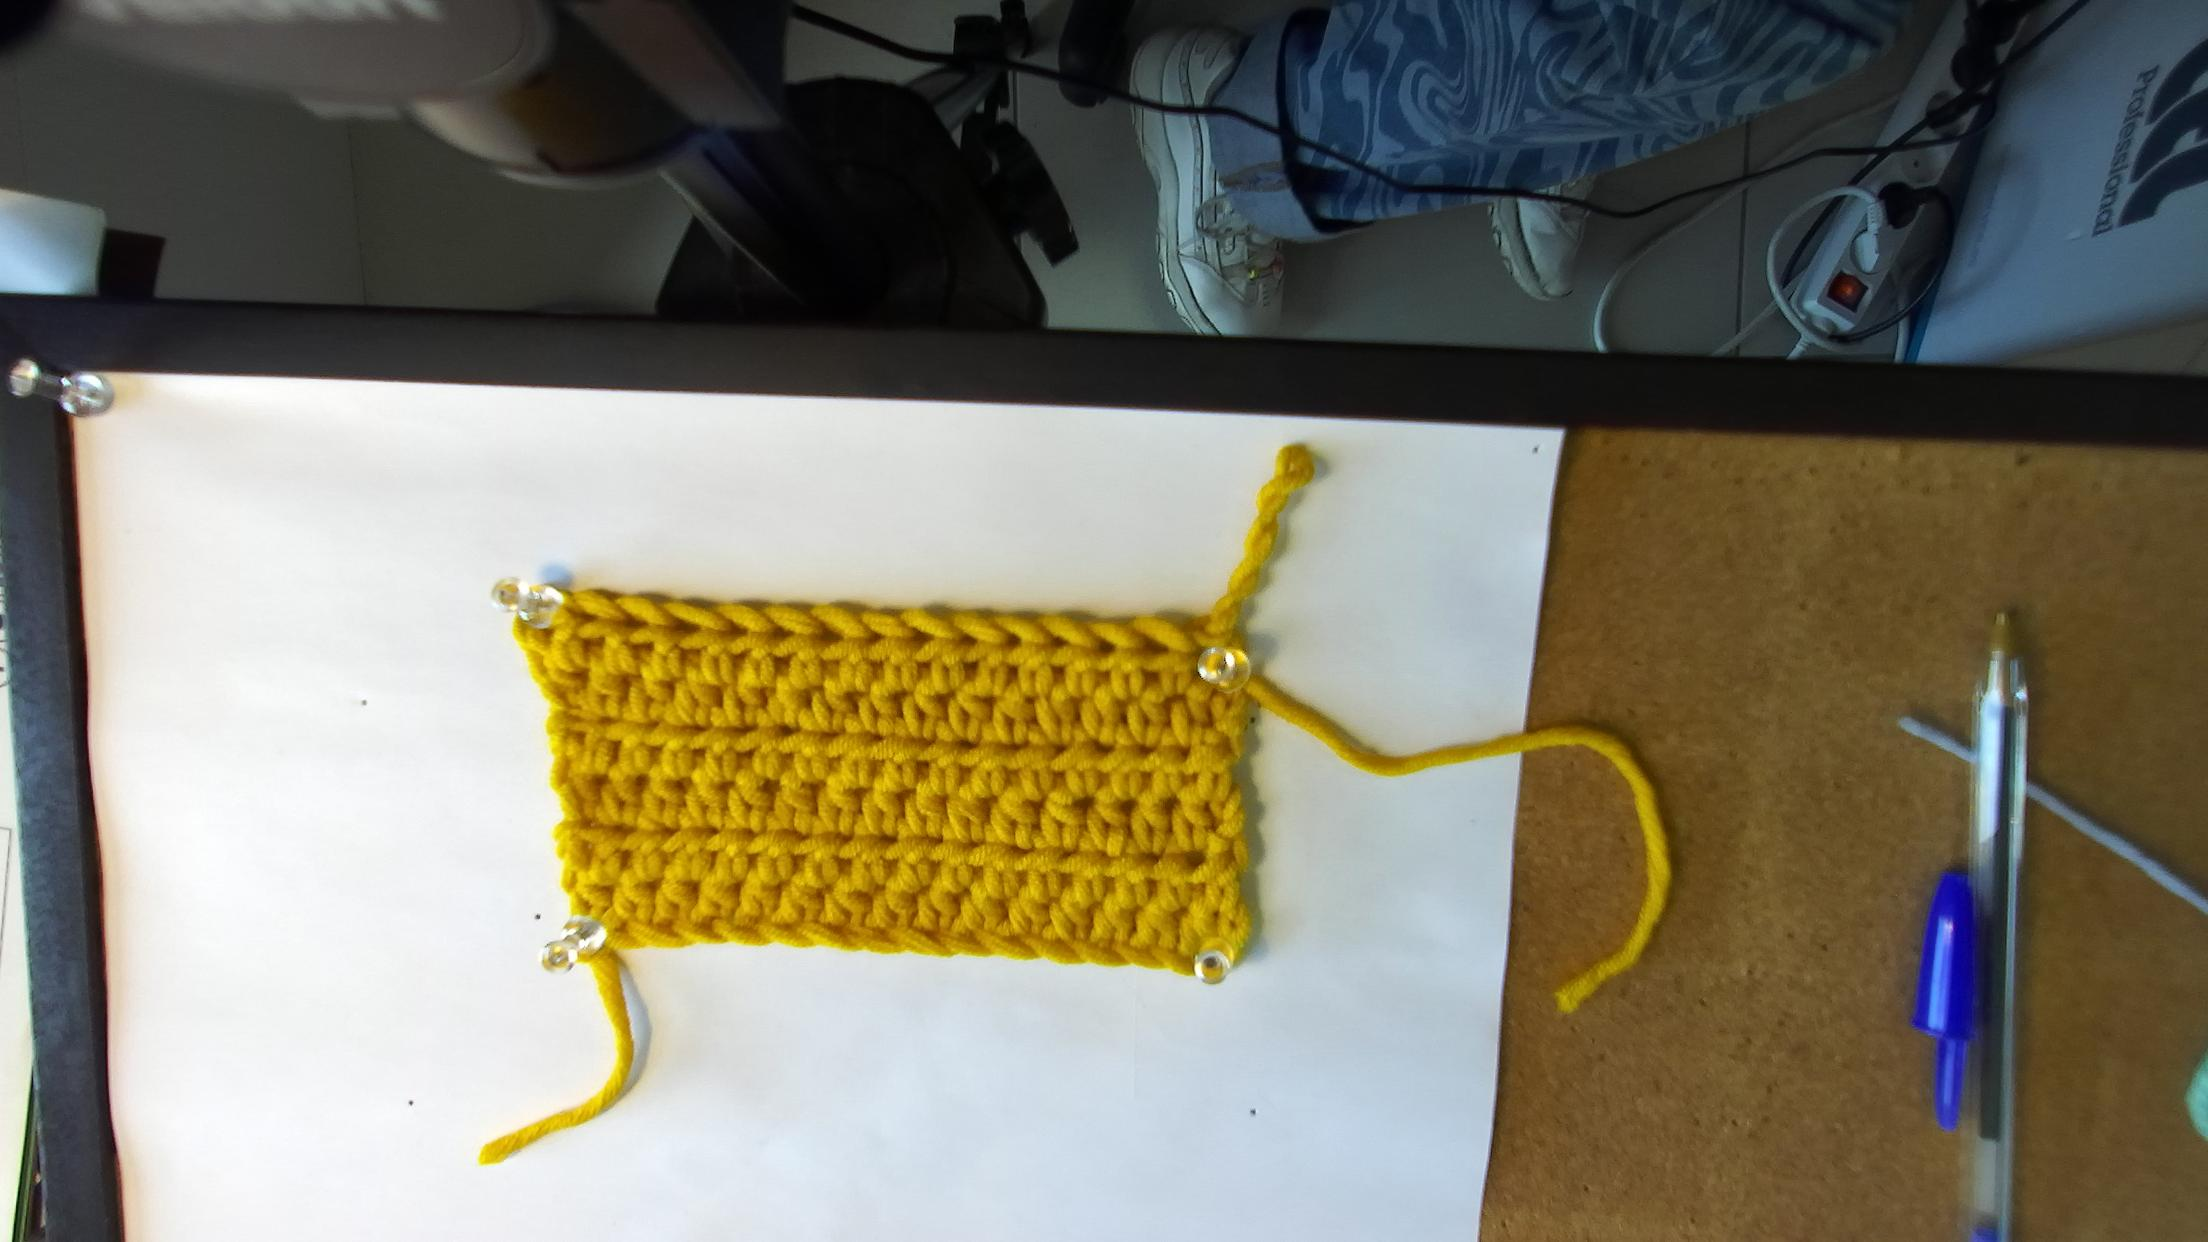hole: (614, 613, 649, 631), (1140, 634, 1168, 655), (670, 617, 701, 635), (816, 626, 845, 645), (910, 628, 936, 646), (573, 610, 602, 625), (722, 622, 748, 638), (1096, 637, 1115, 657), (770, 625, 796, 638), (867, 628, 889, 643), (1004, 632, 1021, 649), (1049, 637, 1072, 648), (958, 634, 978, 646)
swatch: (494, 585, 1266, 986)
